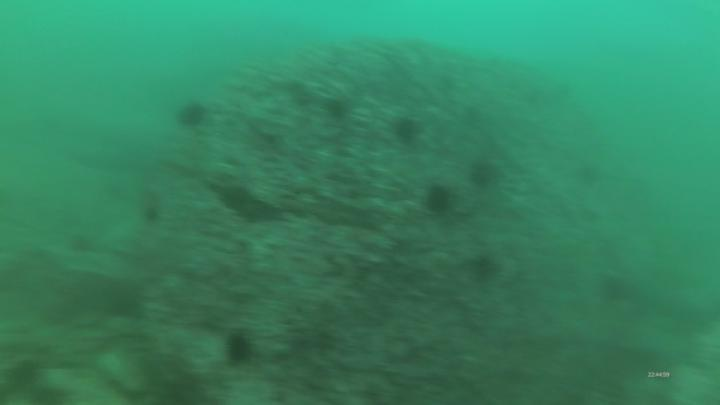echinus: (222, 326, 259, 368), (467, 155, 505, 192), (426, 183, 455, 219), (176, 101, 212, 129), (392, 116, 426, 144), (473, 253, 502, 282), (327, 94, 348, 122)
